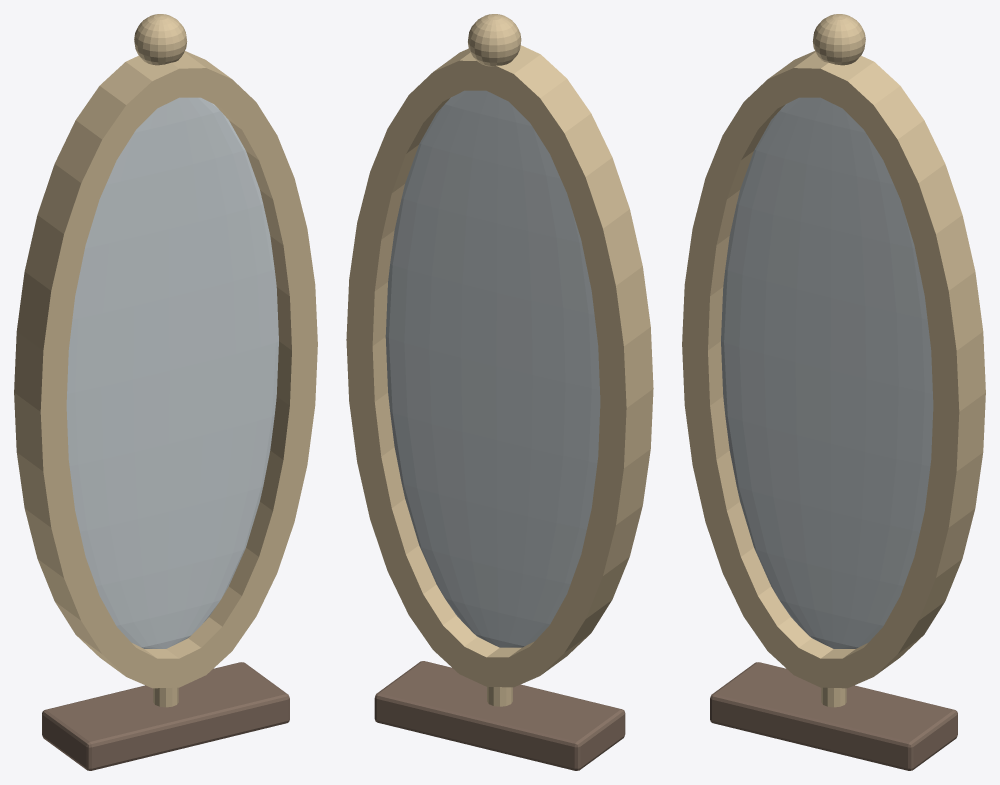
Rendered from CursedMirror.glb.
3 renders of one model, left to right at view 1: azimuth 30°, elevation 25°; view 2: azimuth 150°, elevation 25°; view 3: azimuth 330°, elevation 25°, orthographic.
Parts seen in each view (by area): view 1: CursedMirror_Mirror, CursedMirror_Brass, CursedMirror_DarkWood; view 2: CursedMirror_Mirror, CursedMirror_Brass, CursedMirror_DarkWood; view 3: CursedMirror_Mirror, CursedMirror_Brass, CursedMirror_DarkWood.
Boxes of the visible parts, box(x1,y1,x2,y2) form: CursedMirror_Mirror: box(66, 97, 278, 648); CursedMirror_Brass: box(14, 14, 317, 707); CursedMirror_DarkWood: box(42, 662, 289, 770); CursedMirror_Mirror: box(385, 90, 600, 647); CursedMirror_Brass: box(346, 14, 653, 706); CursedMirror_DarkWood: box(374, 661, 625, 770); CursedMirror_Mirror: box(721, 97, 933, 648); CursedMirror_Brass: box(682, 14, 985, 707); CursedMirror_DarkWood: box(710, 662, 957, 770).
Bounding box in the file's own units: 3 × 7.35 × 0.9.
